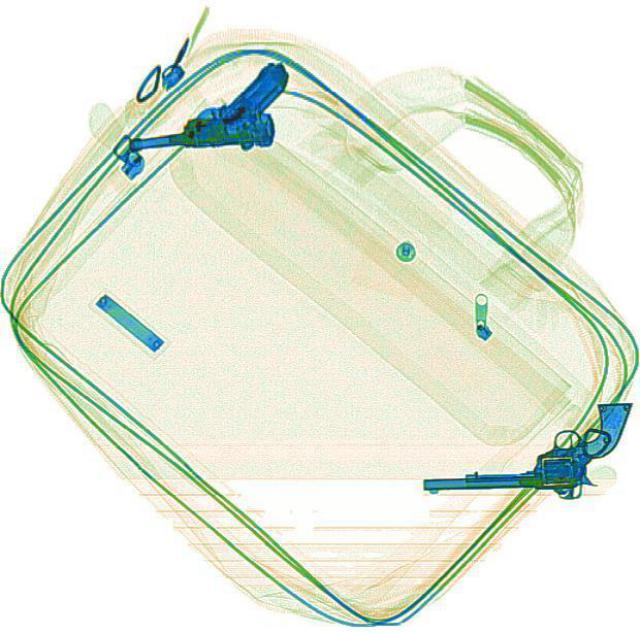Gun: (422, 400, 630, 497), (119, 57, 293, 155)
